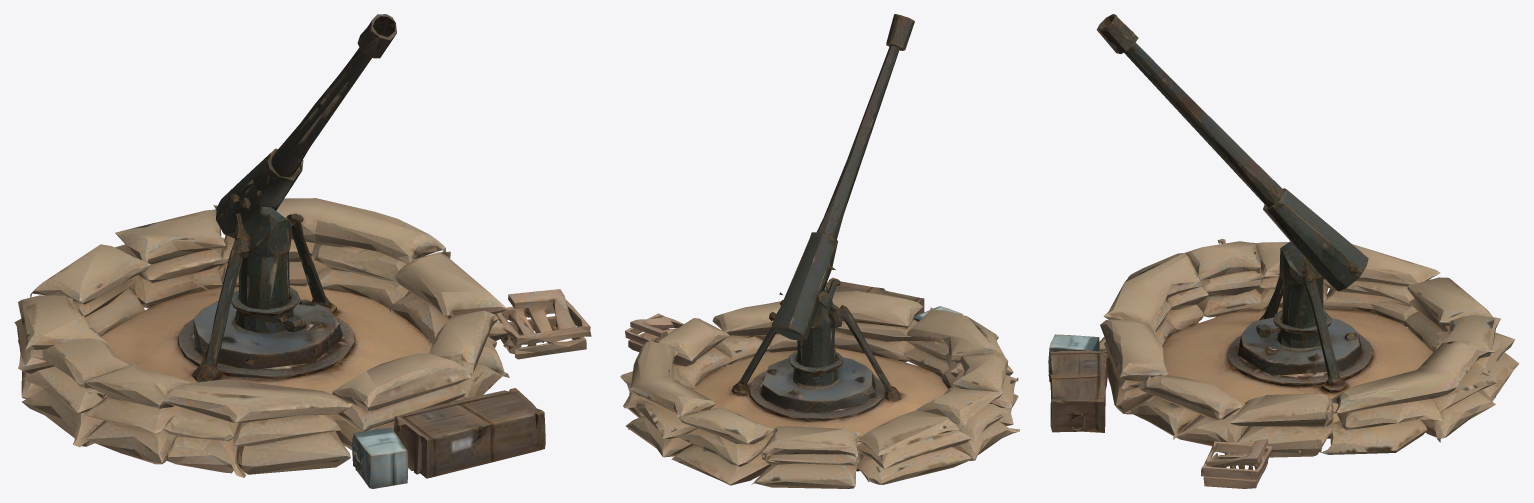
The model's file is mortar_pit.glb.
3 views of the same model, side by side, from view 1: azimuth 30°, elevation 25°; view 2: azimuth 150°, elevation 25°; view 3: azimuth 270°, elevation 25° (orthographic). The views are drawn at different scales.
Parts seen in each view (by area): view 1: mortar_pit; view 2: mortar_pit; view 3: mortar_pit.
Boxes of the visible parts, x1,y1,x2,y2 form: mortar_pit: [14, 14, 591, 488]; mortar_pit: [620, 14, 1019, 488]; mortar_pit: [1048, 14, 1519, 488].
Size of the model in its own units: 2.4 by 2 by 2.34.
Materials: 1 (1 with a texture image).
